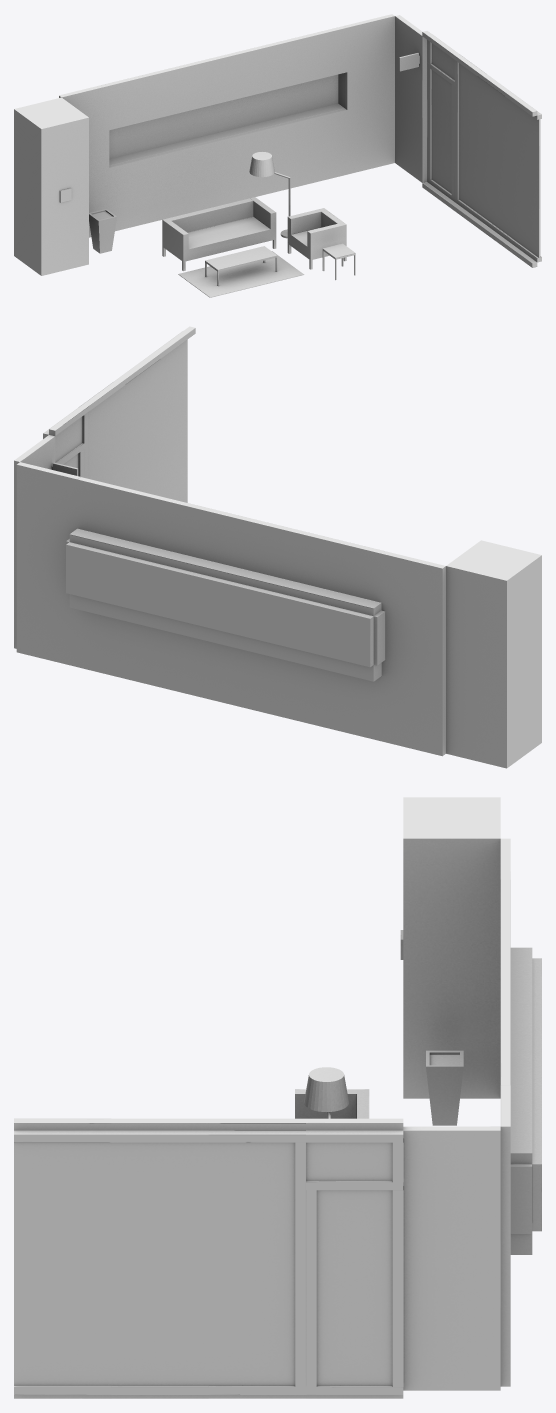
File: office_waiting_area.glb
The picture shows the model from 3 angles, top to bottom: view 1: azimuth 30°, elevation 25°; view 2: azimuth 150°, elevation 25°; view 3: azimuth 270°, elevation 25°; orthographic projection. The views are drawn at different scales.
Parts seen in each view (by area): view 1: OfficeWaitingRoom; view 2: OfficeWaitingRoom; view 3: OfficeWaitingRoom.
Boxes of the visible parts, box(x1,y1,x2,y2) form: OfficeWaitingRoom: box(14, 14, 541, 297); OfficeWaitingRoom: box(14, 326, 541, 768); OfficeWaitingRoom: box(14, 797, 541, 1398).
Bounding box in the file's own units: 8.2 × 3.12 × 5.42.
Materials: 1 (1 with a texture image).
